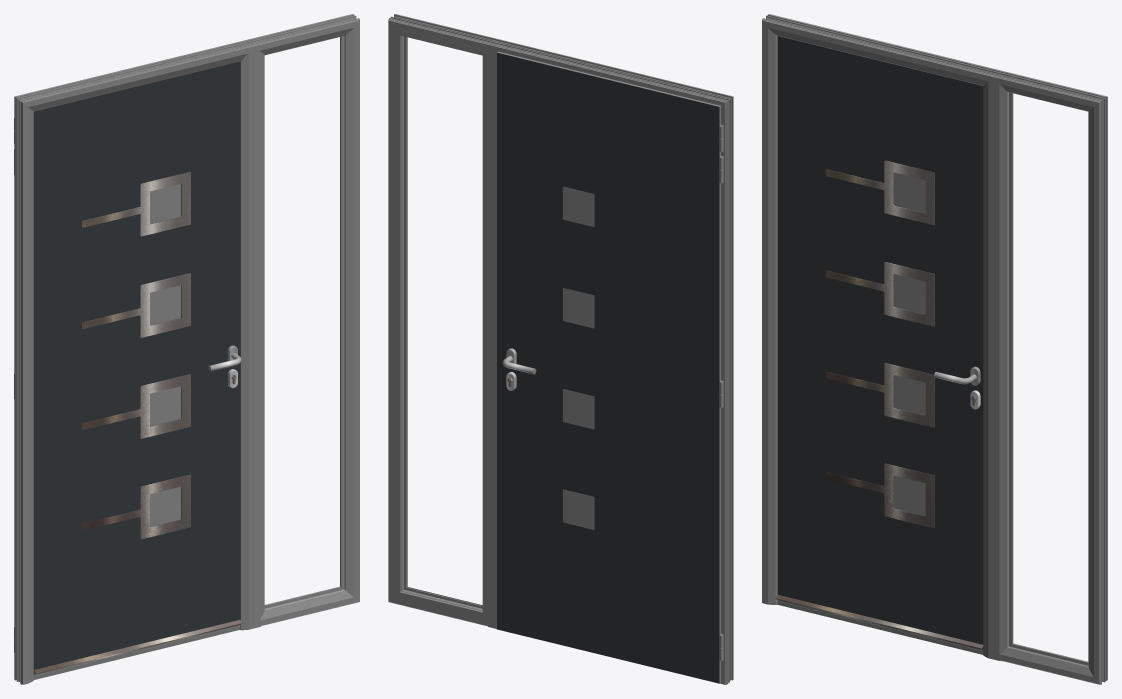
The picture shows the model from 3 angles, left to right: view 1: azimuth 30°, elevation 25°; view 2: azimuth 150°, elevation 25°; view 3: azimuth 330°, elevation 25°; orthographic projection.
Parts seen in each view (by area): view 1: bloco_108, Rectangle002, Line004, alunox_065, Vidro Porta, Object, Object001, Line005, Rectangle005, Rectangle003; view 2: bloco_108, Rectangle002, Rectangle003, Line004, Vidro Porta, Object001, Rectangle004, Object; view 3: bloco_108, Rectangle002, Line004, alunox_065, Vidro Porta, Object001, Object, Line005, Rectangle003, Rectangle005.
Part boxes in pixels (left/top/right/bottom): bloco_108: left=33, top=61, right=240, bottom=671; Rectangle002: left=14, top=14, right=359, bottom=684; Line004: left=240, top=46, right=264, bottom=630; alunox_065: left=82, top=172, right=190, bottom=539; Vidro Porta: left=150, top=184, right=181, bottom=526; Object: left=33, top=35, right=346, bottom=680; Object001: left=264, top=36, right=344, bottom=608; Line005: left=33, top=620, right=242, bottom=674; Rectangle005: left=33, top=625, right=240, bottom=679; Rectangle003: left=264, top=37, right=340, bottom=605; bloco_108: left=497, top=52, right=719, bottom=683; Rectangle002: left=388, top=14, right=733, bottom=684; Rectangle003: left=394, top=28, right=487, bottom=619; Line004: left=488, top=41, right=504, bottom=628; Vidro Porta: left=563, top=186, right=594, bottom=529; Object001: left=401, top=36, right=482, bottom=610; Rectangle004: left=496, top=51, right=720, bottom=683; Object: left=404, top=36, right=482, bottom=608; bloco_108: left=777, top=36, right=983, bottom=644; Rectangle002: left=762, top=14, right=1107, bottom=684; Line004: left=983, top=77, right=1007, bottom=661; alunox_065: left=825, top=160, right=934, bottom=528; Vidro Porta: left=894, top=172, right=925, bottom=515; Object001: left=1007, top=92, right=1088, bottom=665; Object: left=776, top=35, right=1088, bottom=667; Line005: left=775, top=595, right=983, bottom=649; Rectangle003: left=1012, top=93, right=1087, bottom=662; Rectangle005: left=777, top=600, right=983, bottom=654.
Bounding box in the file's own units: 1307 × 2150 × 192.
7 materials, 4 textured.
